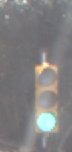Green: (28, 58, 60, 141)
